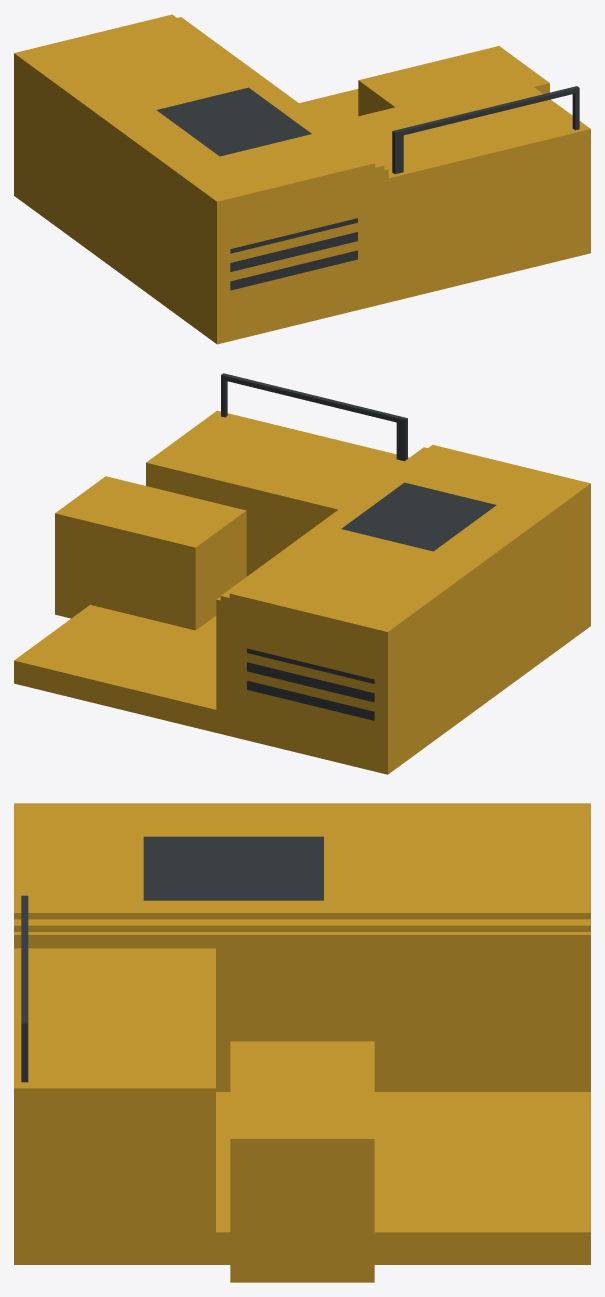
The model's file is excavator_house.glb.
3 renders of one model, top to bottom at view 1: azimuth 30°, elevation 25°; view 2: azimuth 150°, elevation 25°; view 3: azimuth 270°, elevation 25°, orthographic. The views are drawn at different scales.
Parts seen in each view (by area): view 1: body:compound; view 2: body:compound; view 3: body:compound.
Boxes of the visible parts, x1=… form: body:compound: x1=14, y1=14, x2=590, y2=344; body:compound: x1=14, y1=373, x2=590, y2=774; body:compound: x1=14, y1=803, x2=590, y2=1282.
Size of the model in its own units: 2.91 by 1.12 by 2.5.
